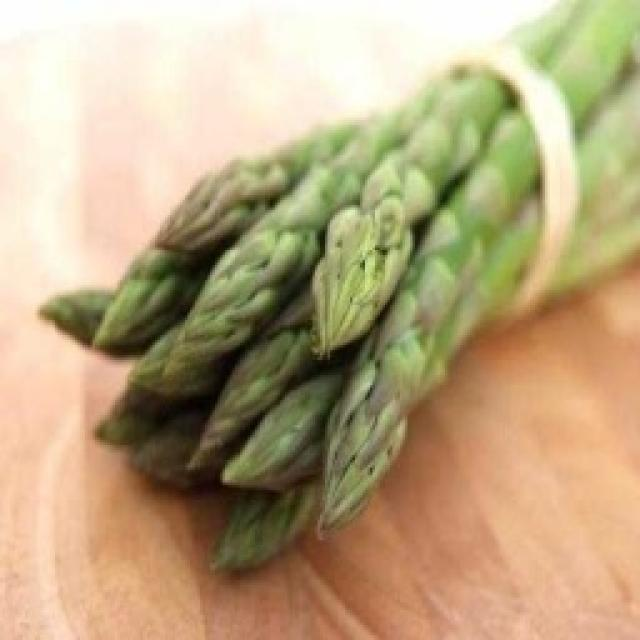Asparagus spear: (318, 368, 427, 558), (324, 170, 411, 361), (184, 227, 314, 350)
